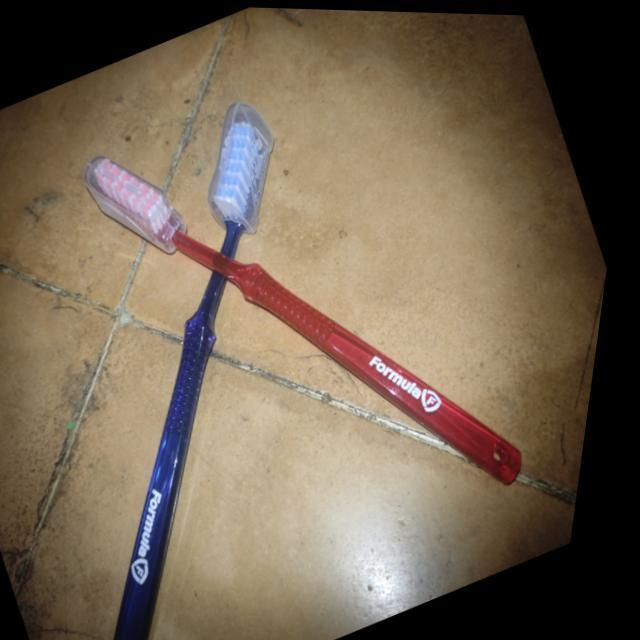toothbrush: (80, 135, 558, 507), (111, 90, 312, 640)
